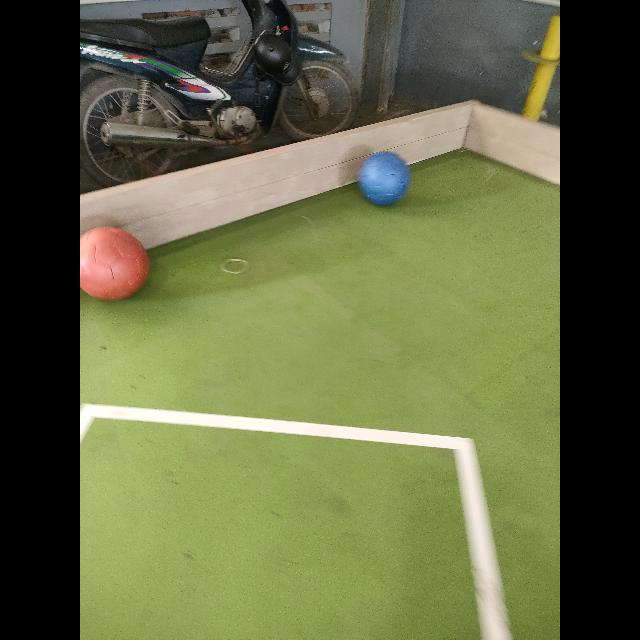B: (359, 151, 410, 205)
R: (80, 228, 149, 300)
